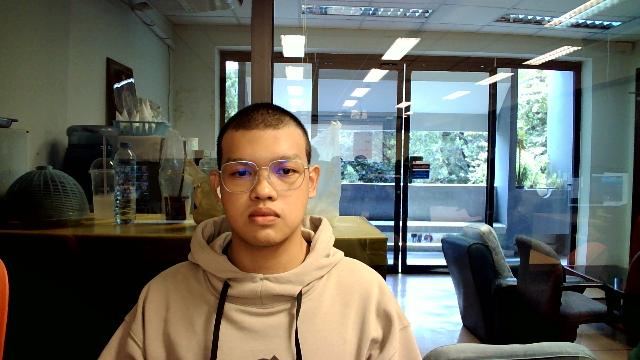fokus: (206, 103, 322, 250)
